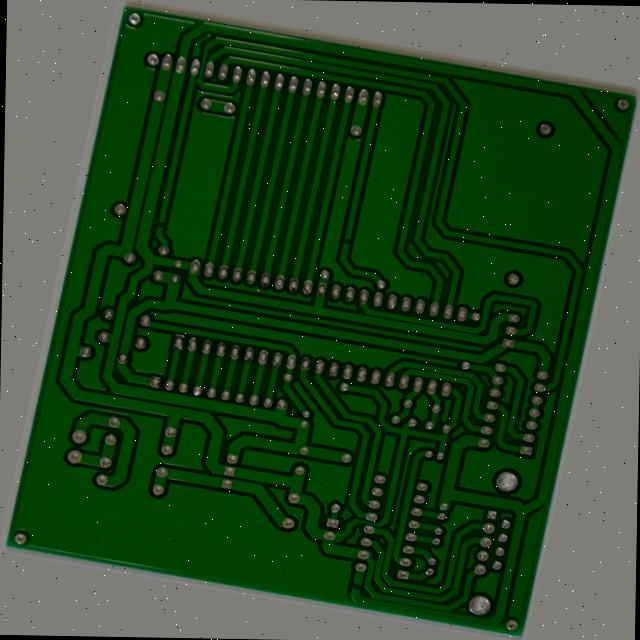open_circuit: (414, 602, 432, 619), (101, 234, 118, 248), (323, 220, 338, 233)
